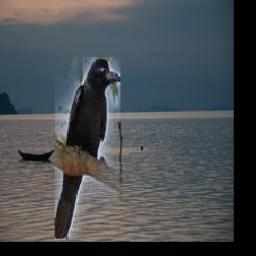Crow: (54, 57, 119, 240)
